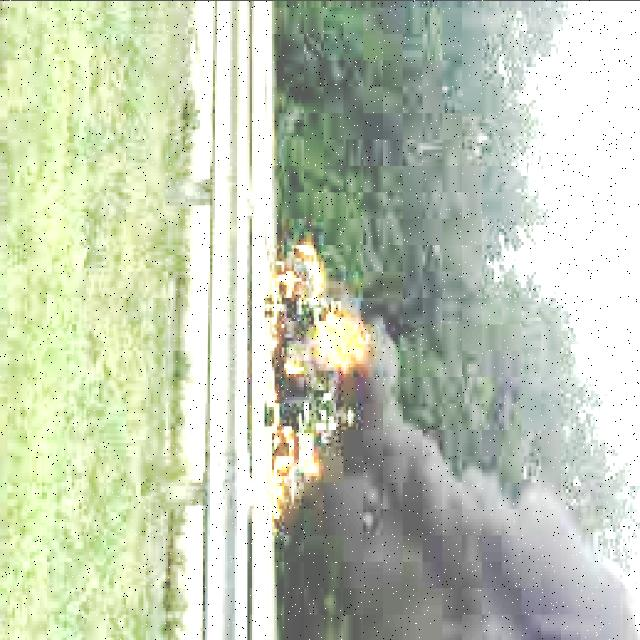api: (251, 235, 379, 519)
